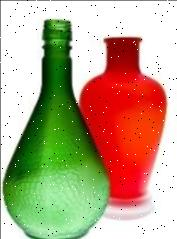glass: (3, 16, 110, 239)
